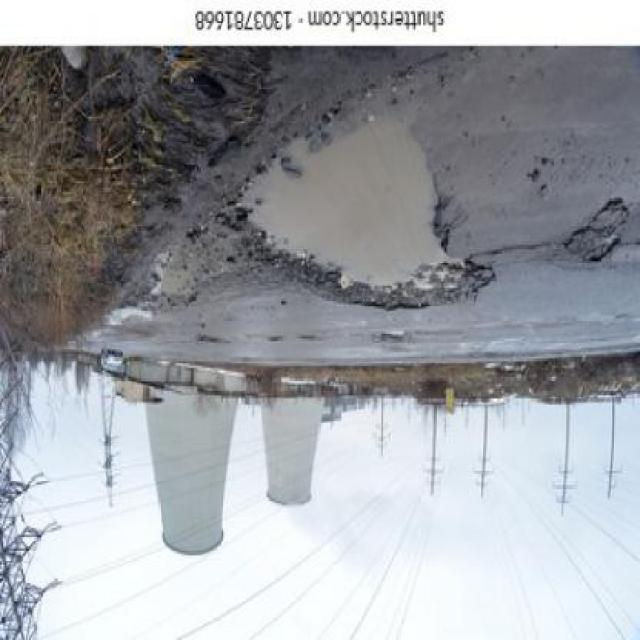pothole: (204, 102, 500, 341), (550, 180, 630, 280)
